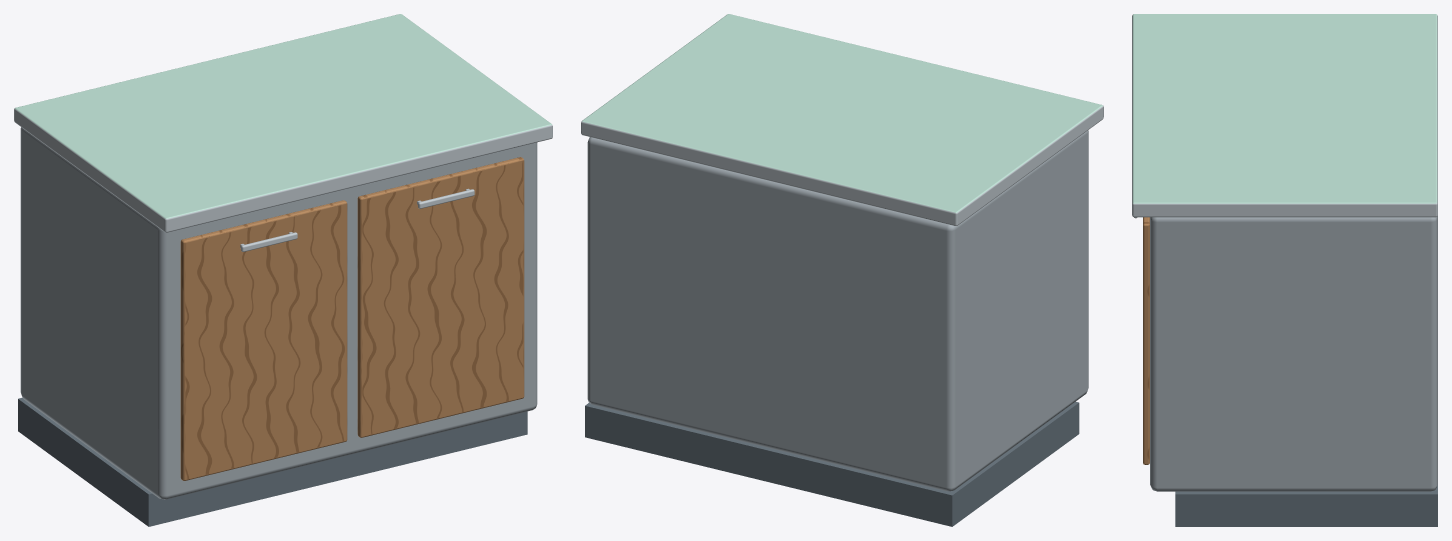
The model's file is SM_BoxingStation.glb.
The picture shows the model from 3 angles, left to right: view 1: azimuth 30°, elevation 25°; view 2: azimuth 150°, elevation 25°; view 3: azimuth 270°, elevation 25°; orthographic projection. The views are drawn at different scales.
Visible parts, largest first — view 1: SM_BoxingStation, Door_2, Door_1; view 2: SM_BoxingStation; view 3: SM_BoxingStation, Door_2.
Boxes of the visible parts, left/top/right/bottom form: SM_BoxingStation: left=14, top=14, right=552, bottom=526; Door_2: left=357, top=157, right=524, bottom=437; Door_1: left=180, top=200, right=347, bottom=480; SM_BoxingStation: left=581, top=14, right=1103, bottom=526; SM_BoxingStation: left=1132, top=14, right=1437, bottom=526; Door_2: left=1134, top=217, right=1149, bottom=464.
Bounding box in the file's own units: 1.25 × 1 × 0.85.
Materials: 4 (4 with a texture image).
